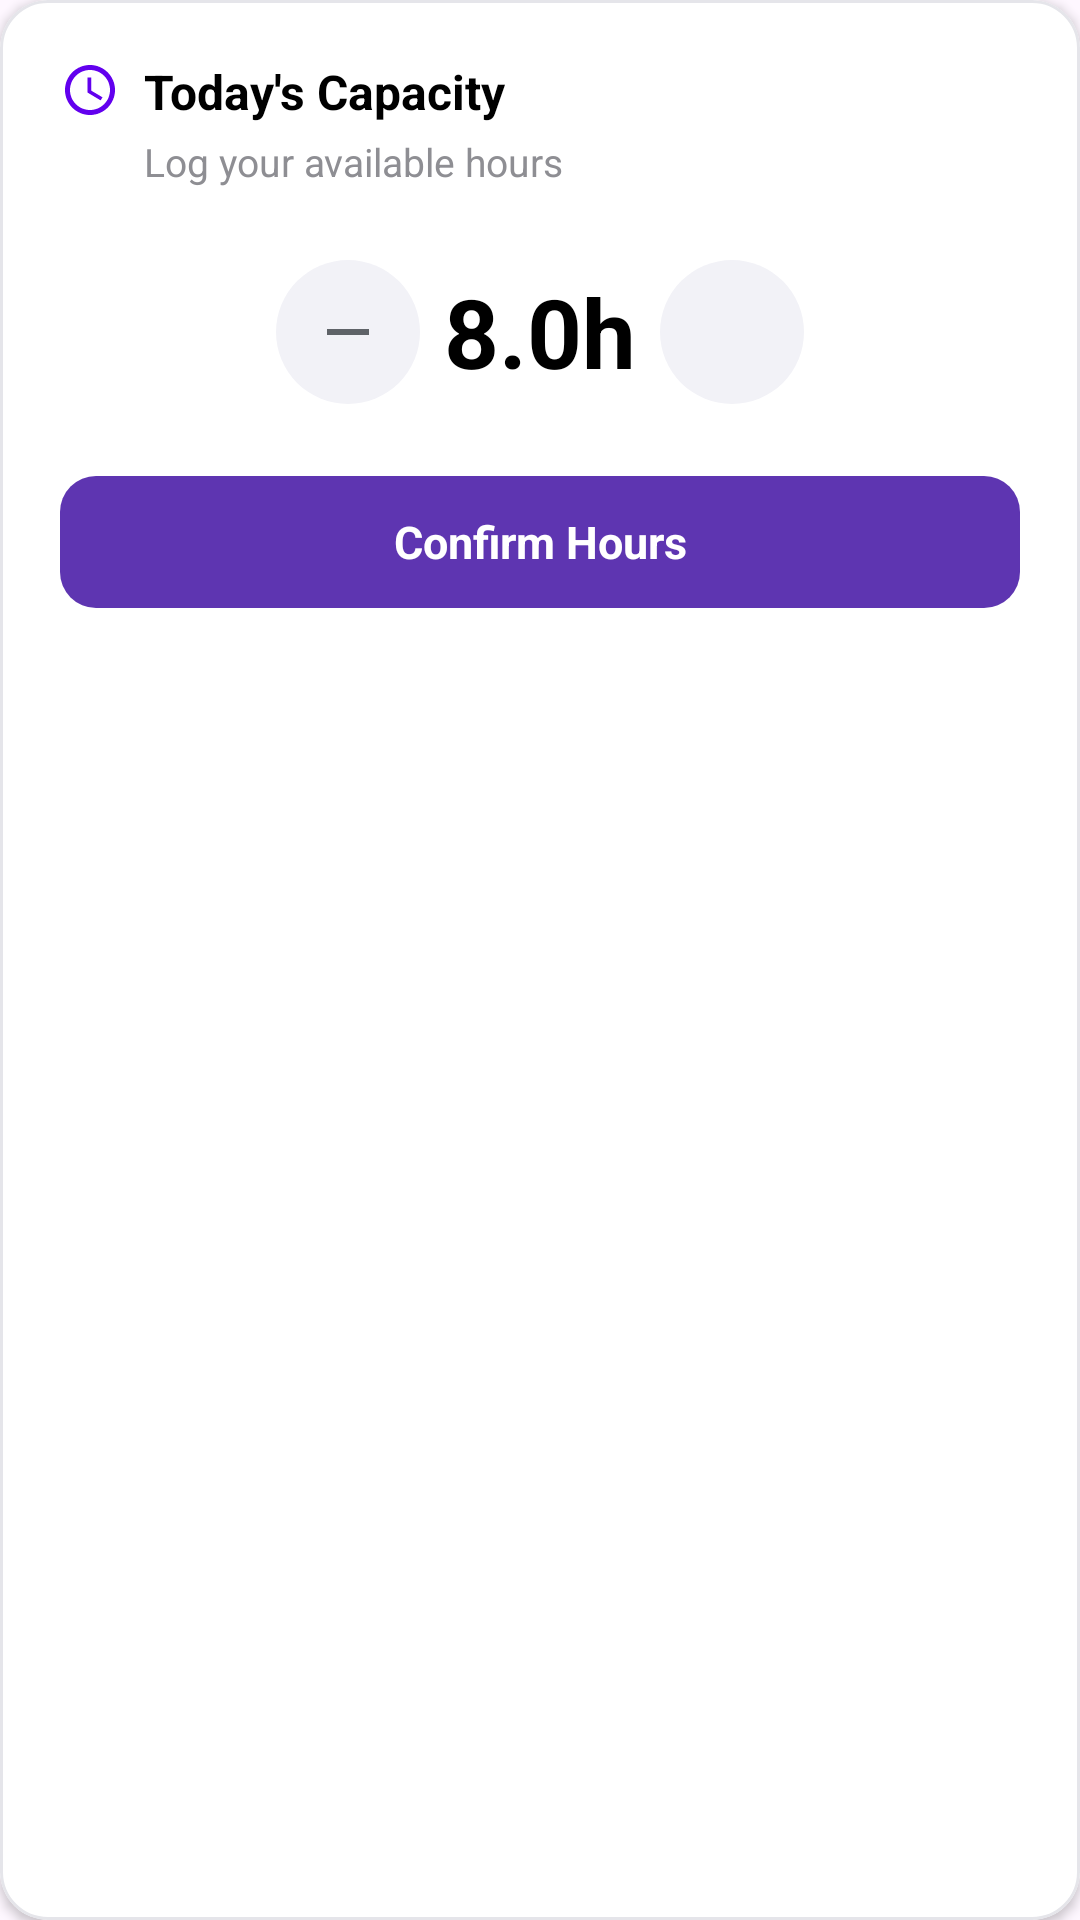

Icons on this 1080 × 1920 Android screen, each with its box as (x1, y1, x2, y2):
clock: (65, 65, 115, 115)
